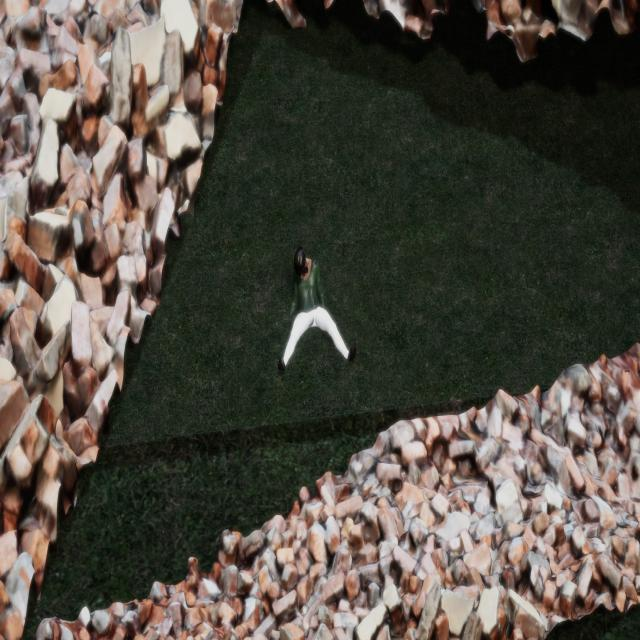Human: (273, 233, 362, 379)
